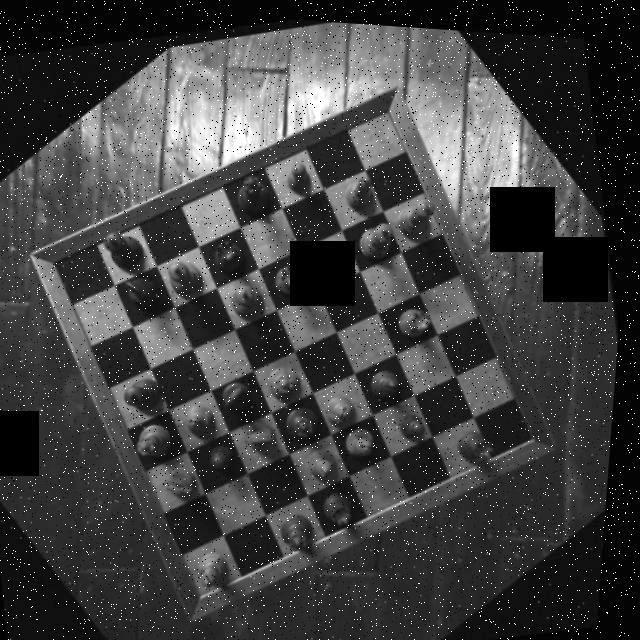chess-table-corners: (183, 564, 239, 621), (43, 236, 82, 276), (518, 412, 556, 449), (369, 88, 407, 125)
